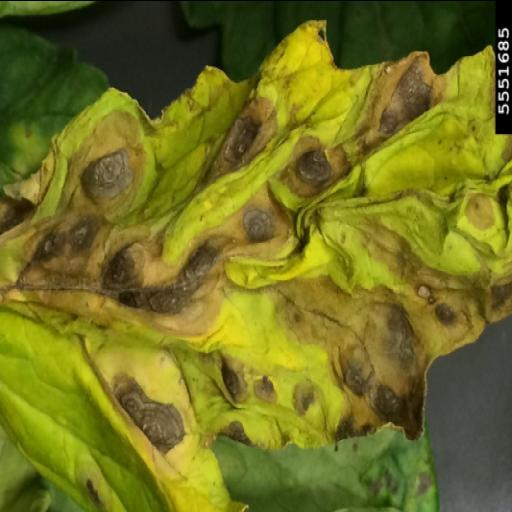disease_tomato: (0, 17, 512, 512)
